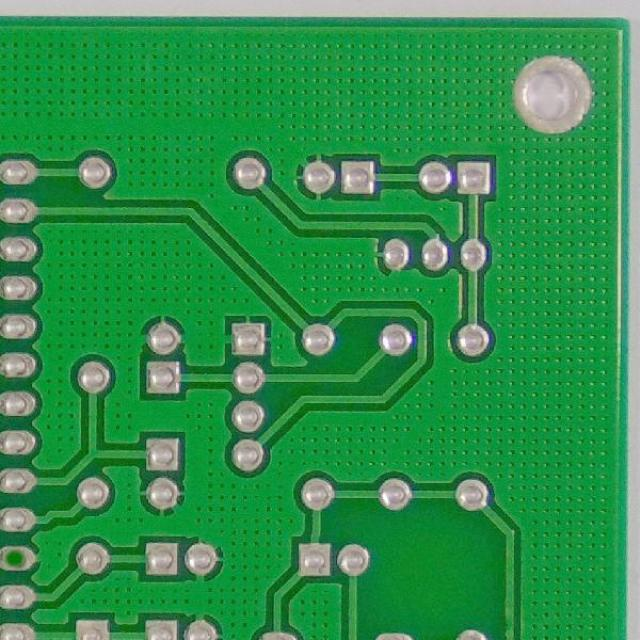Missing_Hole: (0, 543, 37, 573)
